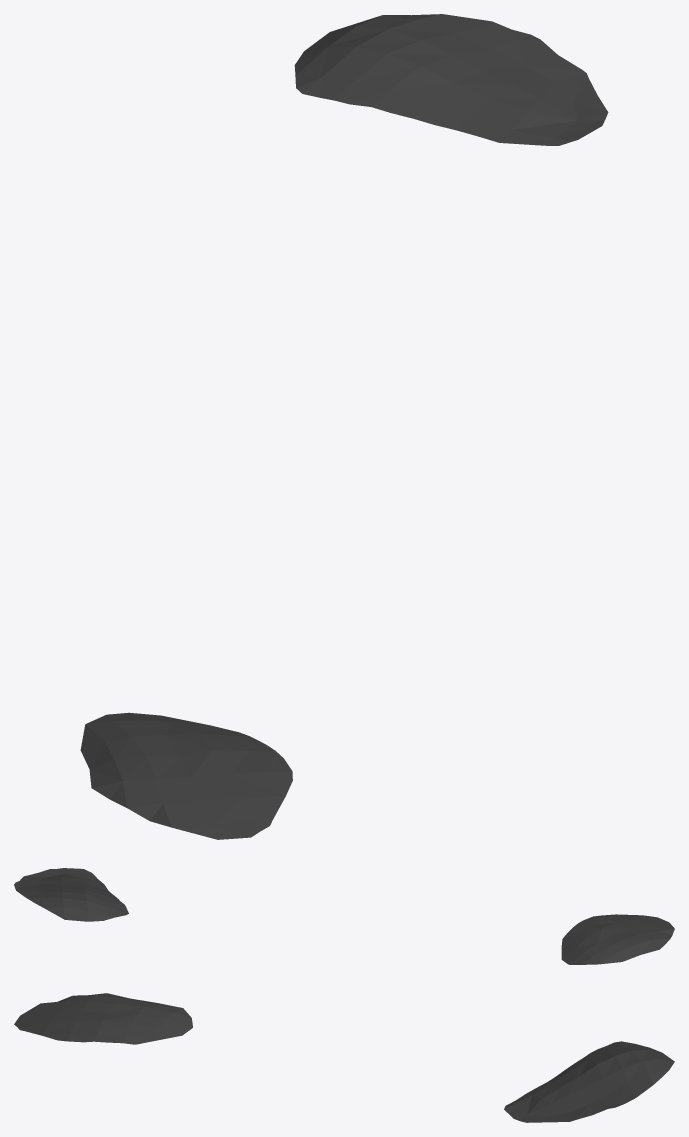
The model's file is eq_dist_limb_Proximal_Sesamoids.glb.
3 renders of one model, top to bottom at view 1: azimuth 30°, elevation 25°; view 2: azimuth 150°, elevation 25°; view 3: azimuth 270°, elevation 25°, orthographic. The views are drawn at different scales.
Visible parts, largest first — view 1: eq_dist_limb_Proximal_Sesamoids; view 2: eq_dist_limb_Proximal_Sesamoids; view 3: eq_dist_limb_Proximal_Sesamoids.
Boxes of the visible parts, x1,y1,x2,y2 form: eq_dist_limb_Proximal_Sesamoids: (80,14,608,839); eq_dist_limb_Proximal_Sesamoids: (14,868,674,964); eq_dist_limb_Proximal_Sesamoids: (14,993,674,1122).
Size of the model in its own units: 0.00541 by 0.00153 by 0.00588.
Materials: 1 (1 with a texture image).
